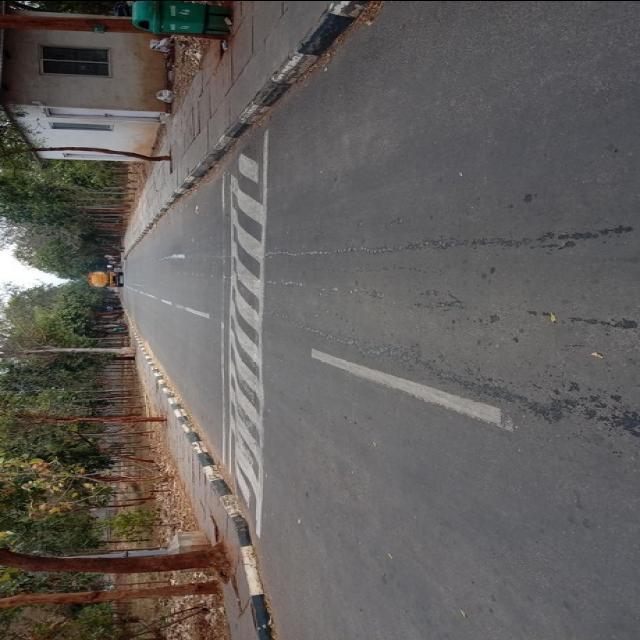speedbreaker: (218, 135, 272, 491)
